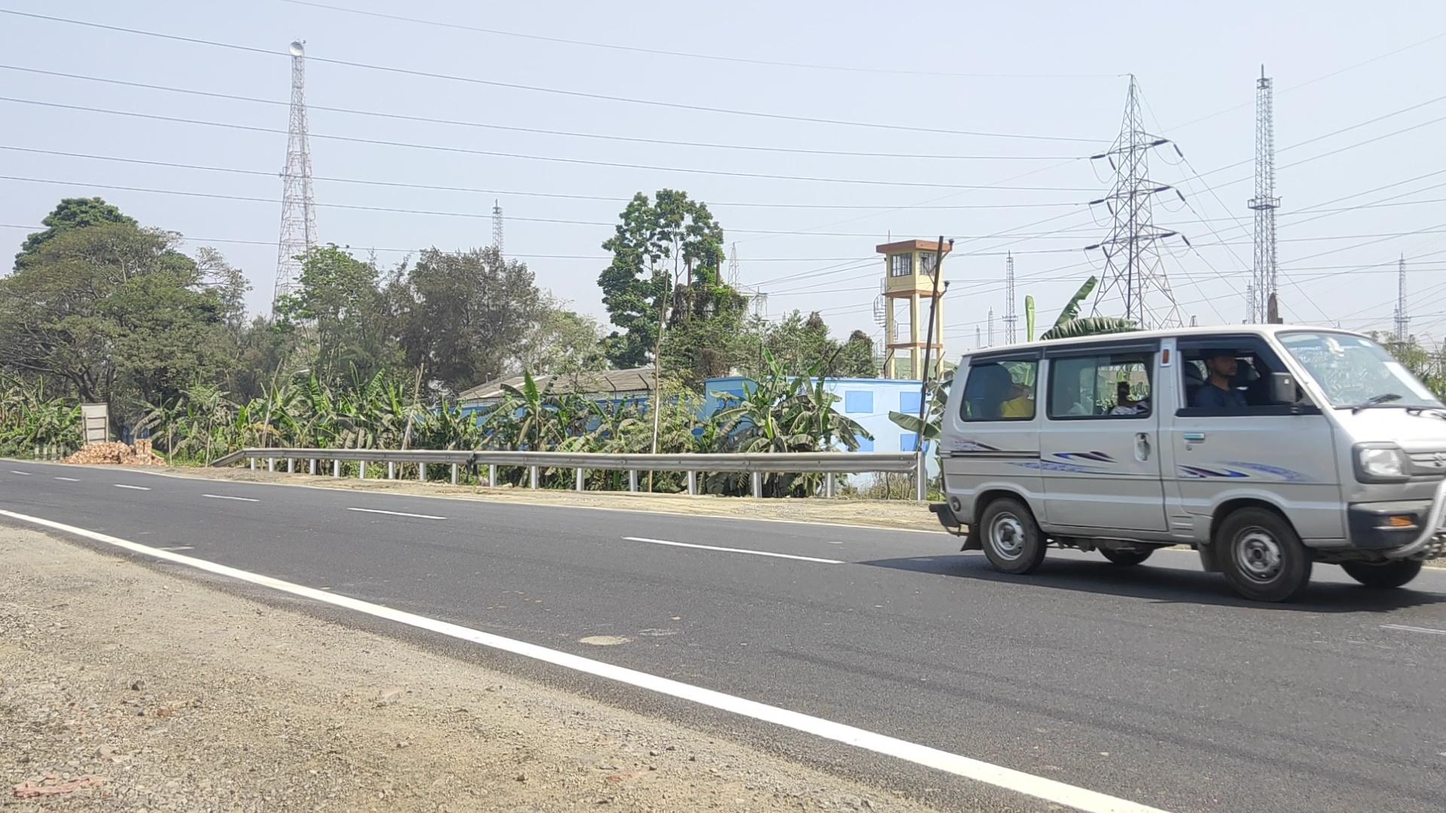van: (929, 322, 1446, 604)
